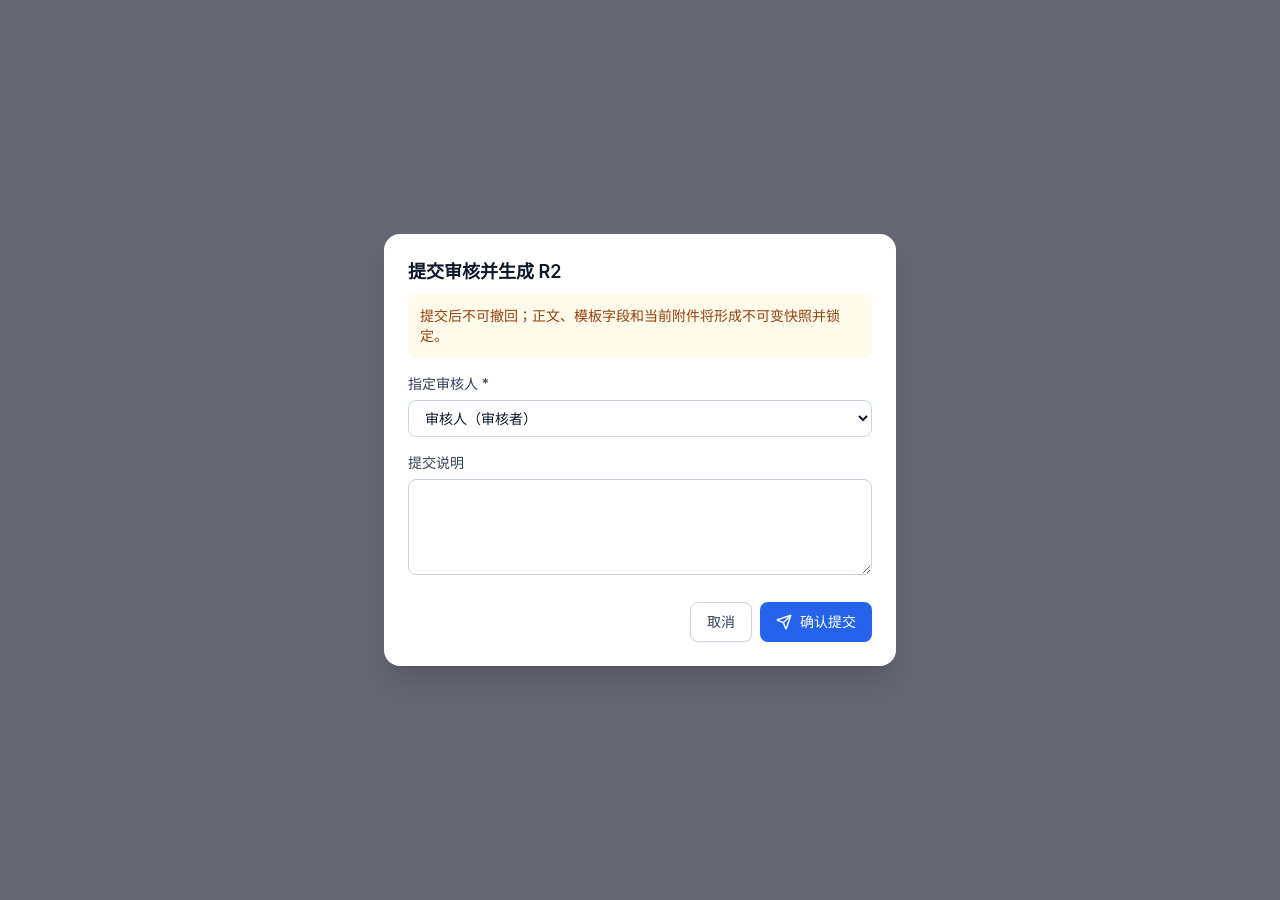
Test: SubmissionDialog › shows the concrete invalid field returned by submission validation
Click the button "确认提交". click: [816, 622]
box: [760, 602, 872, 642]
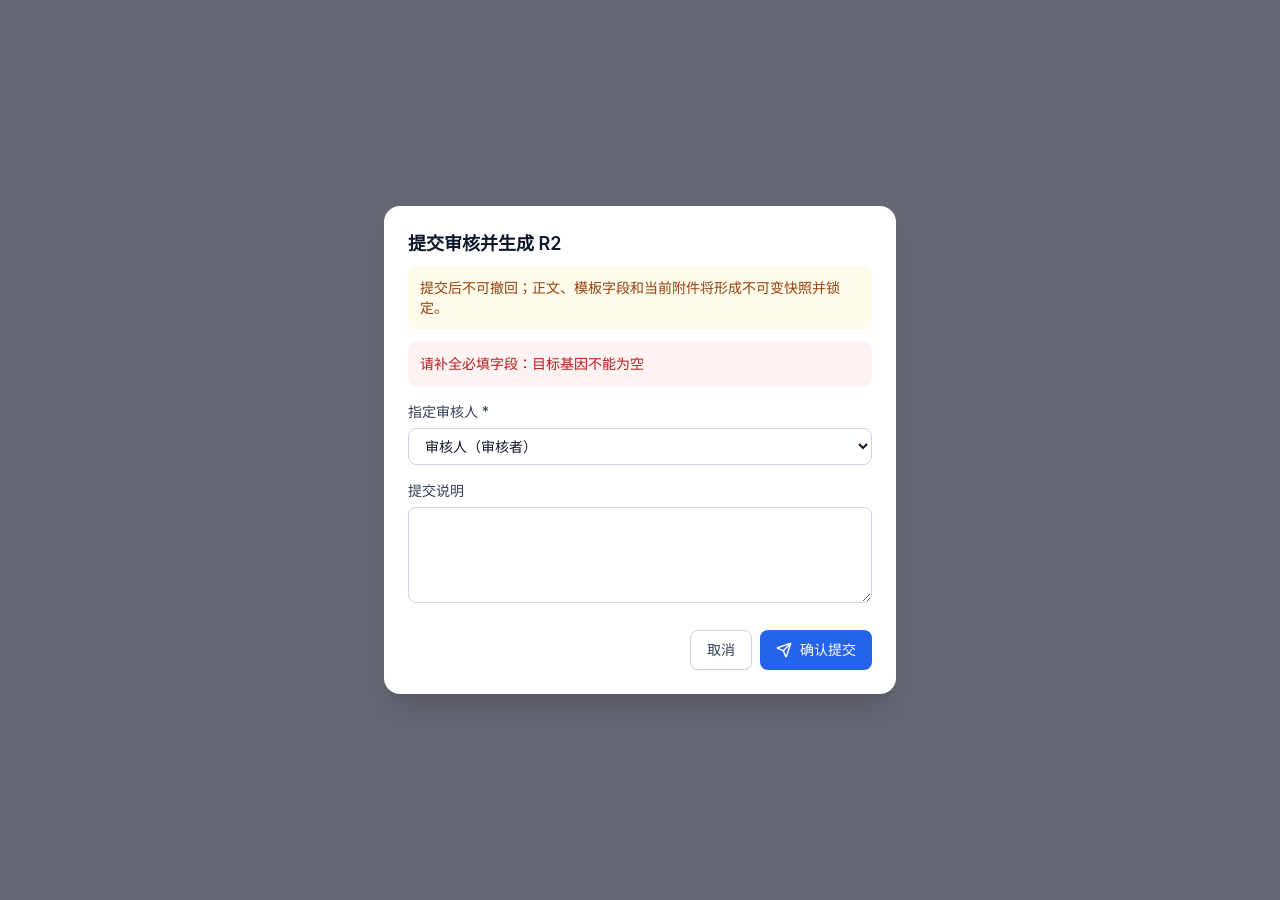
Expected: the message reads "请补全必填字段：目标基因不能为空", [420, 355, 644, 372]
